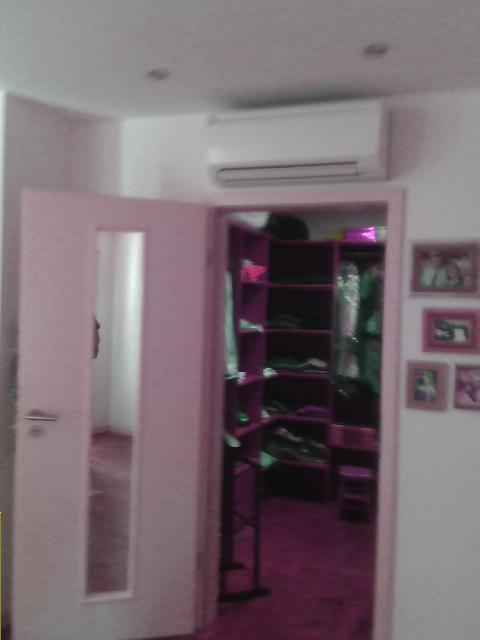open_door: (192, 190, 404, 638)
